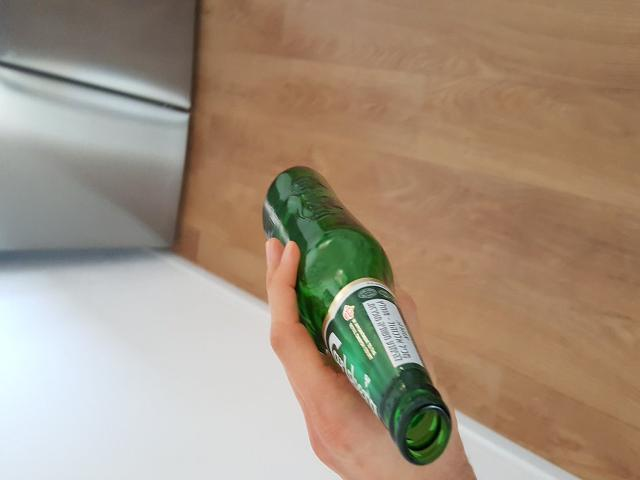beer: (263, 166, 452, 466)
